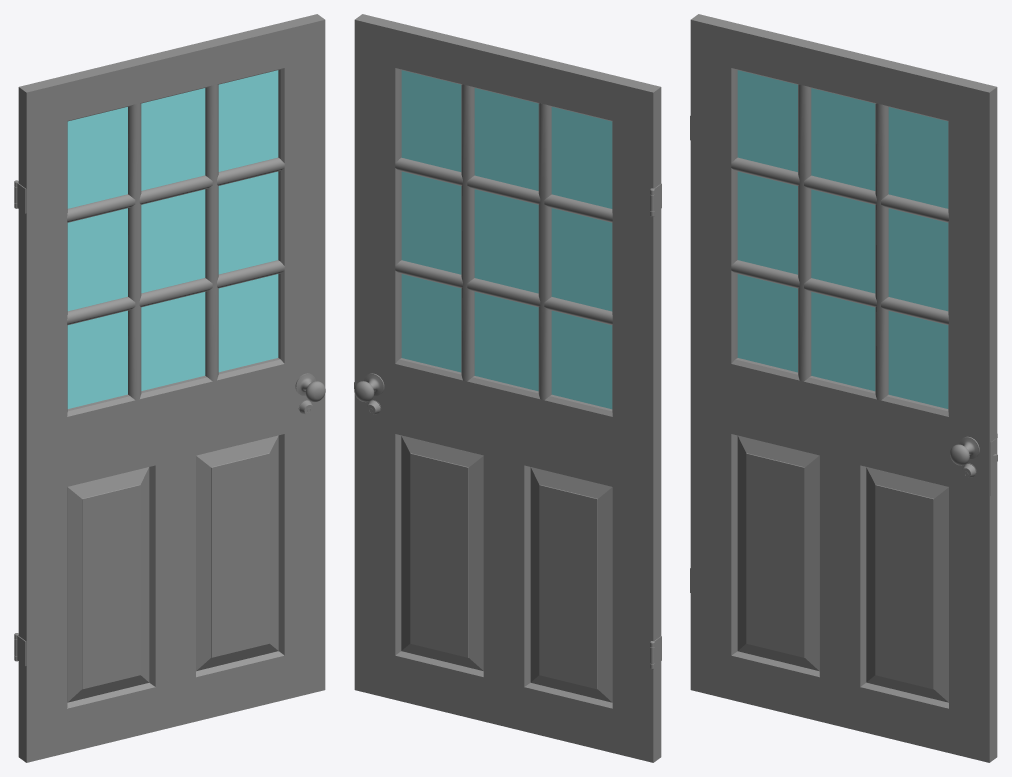
The model's file is Door_mesh_multidirectional_C_R.FBX.
3 views of the same model, side by side, from view 1: azimuth 30°, elevation 25°; view 2: azimuth 150°, elevation 25°; view 3: azimuth 330°, elevation 25° (orthographic).
Parts seen in each view (by area): view 1: Door_mesh_C_R, Windowglass_A; view 2: Door_mesh_C_R, Windowglass_A; view 3: Door_mesh_C_R, Windowglass_A.
Boxes of the visible parts, x1,y1,x2,y2 form: Door_mesh_C_R: (14, 14, 325, 762); Windowglass_A: (67, 70, 278, 408); Door_mesh_C_R: (354, 14, 661, 762); Windowglass_A: (401, 70, 612, 409); Door_mesh_C_R: (690, 14, 997, 762); Windowglass_A: (737, 70, 948, 408).
Size of the model in its own units: 102 by 215 by 19.99.
